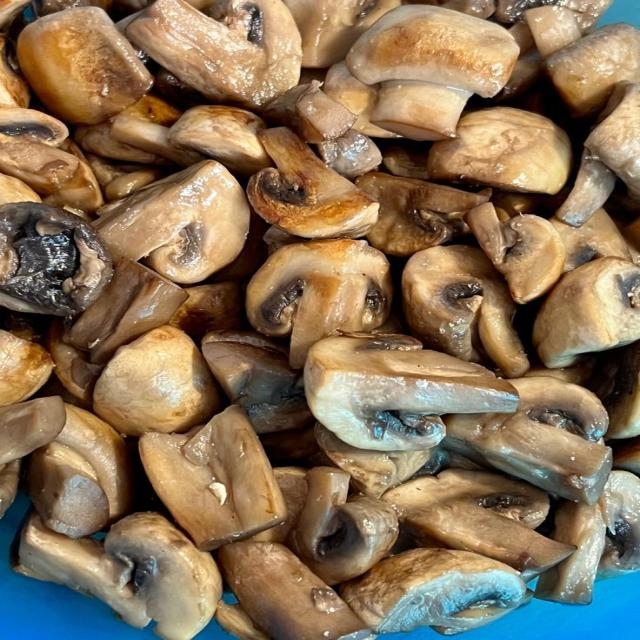champignon mushrooms: (14, 513, 221, 639), (305, 335, 518, 450), (347, 6, 519, 140), (446, 377, 612, 504), (140, 406, 286, 550), (382, 470, 574, 578), (126, 0, 301, 108), (95, 161, 249, 283), (247, 239, 391, 368), (402, 246, 528, 377), (17, 7, 153, 124), (341, 549, 526, 635), (14, 512, 151, 628), (219, 542, 371, 639), (105, 513, 222, 639), (247, 128, 379, 238), (27, 404, 133, 537), (94, 326, 220, 435), (63, 259, 187, 364), (0, 203, 112, 315), (428, 107, 572, 194), (292, 467, 398, 584), (534, 257, 639, 368), (356, 172, 490, 257), (202, 331, 313, 433), (464, 203, 565, 304), (315, 423, 433, 497), (546, 23, 639, 116), (284, 0, 401, 68), (27, 442, 108, 538), (535, 501, 606, 604), (169, 106, 271, 175), (110, 96, 204, 167), (585, 82, 639, 198), (323, 62, 400, 137), (264, 81, 357, 143), (549, 209, 632, 272), (45, 319, 103, 407), (43, 140, 104, 221), (0, 135, 79, 197), (590, 342, 639, 439), (556, 150, 616, 228), (247, 467, 307, 544), (0, 397, 66, 465), (598, 471, 639, 578), (208, 210, 267, 282), (74, 122, 170, 165), (168, 282, 245, 335), (0, 330, 53, 406), (494, 0, 613, 31), (497, 21, 542, 101), (317, 129, 382, 178), (523, 5, 581, 58), (0, 107, 68, 146), (261, 426, 320, 465), (0, 35, 30, 108), (104, 167, 166, 201), (215, 601, 270, 639), (154, 68, 206, 108), (524, 357, 596, 385), (383, 143, 429, 180), (405, 0, 495, 18), (0, 174, 40, 204), (0, 460, 20, 519), (614, 437, 639, 475)
